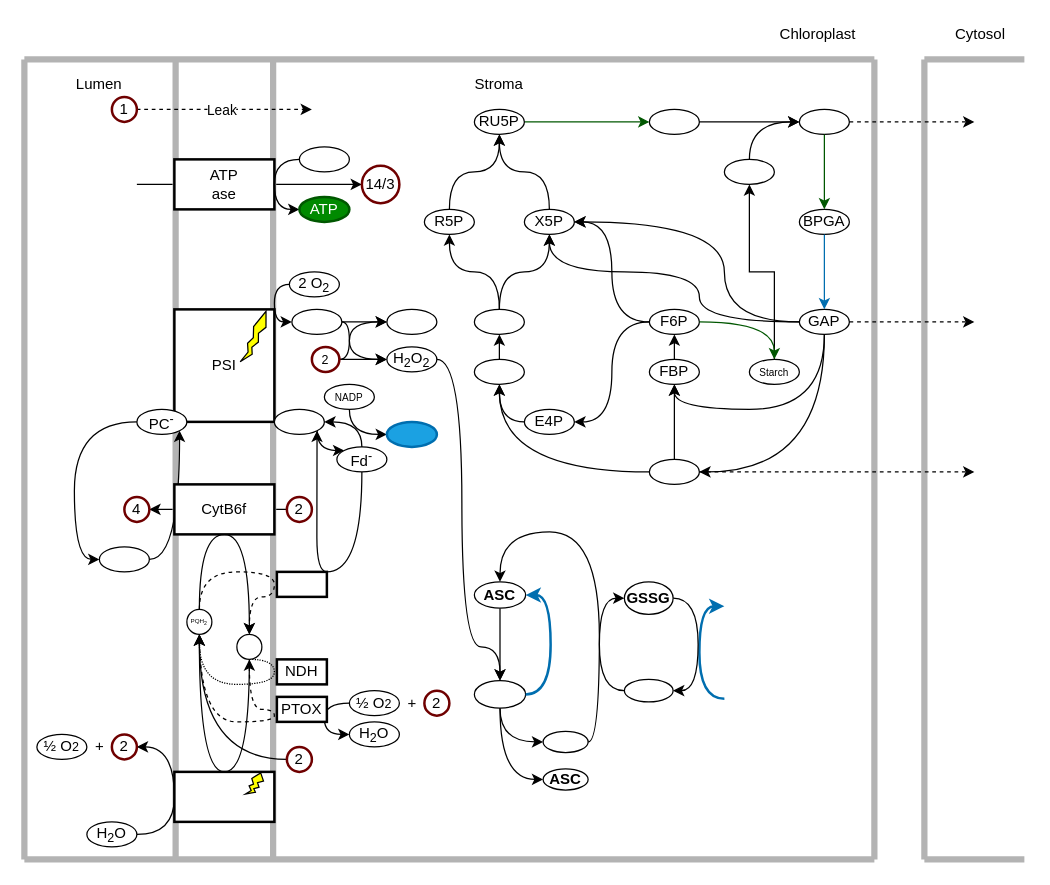
This 1050x885 diagram has some shape labels left out. Each missing label, with the box of its shape:
2 O 2 *: (291, 308, 342, 334)
ADP: (298, 146, 349, 172)
CO2: (723, 158, 774, 184)
DHA: (542, 730, 588, 752)
DHAP: (648, 458, 699, 484)
Fd: (273, 408, 324, 434)
FQR: (275, 570, 328, 598)
GSH: (623, 678, 673, 702)
MDA: (473, 679, 526, 708)
NADPH: (385, 420, 438, 448)
O 2: (386, 308, 437, 334)
PC: (98, 546, 149, 572)
PGA: (798, 108, 849, 134)
PQ: (236, 633, 262, 659)
PSII: (172, 770, 275, 822)
RUBP: (648, 108, 699, 134)
S7P: (473, 308, 524, 334)
SBP: (473, 358, 524, 384)
